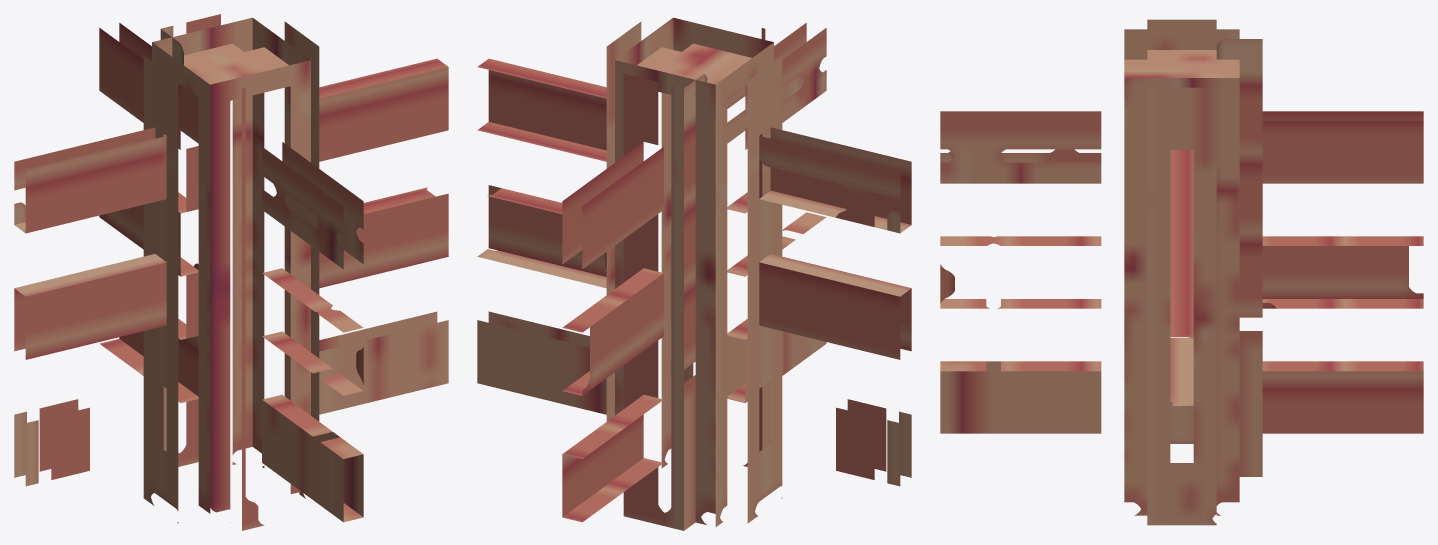
Rendered from Fence_+Shape.obj.
3 views of the same model, side by side, from view 1: azimuth 30°, elevation 25°; view 2: azimuth 150°, elevation 25°; view 3: azimuth 270°, elevation 25° (orthographic).
Visible parts, largest first — view 1: Cube.1309; view 2: Cube.1309; view 3: Cube.1309.
Part boxes in pixels (box(x1,y1,x2,y2)): Cube.1309: box(14, 14, 448, 530); Cube.1309: box(477, 17, 911, 530); Cube.1309: box(940, 19, 1423, 525).
Bounding box in the file's own units: 2.1 × 2.1 × 2.1.
